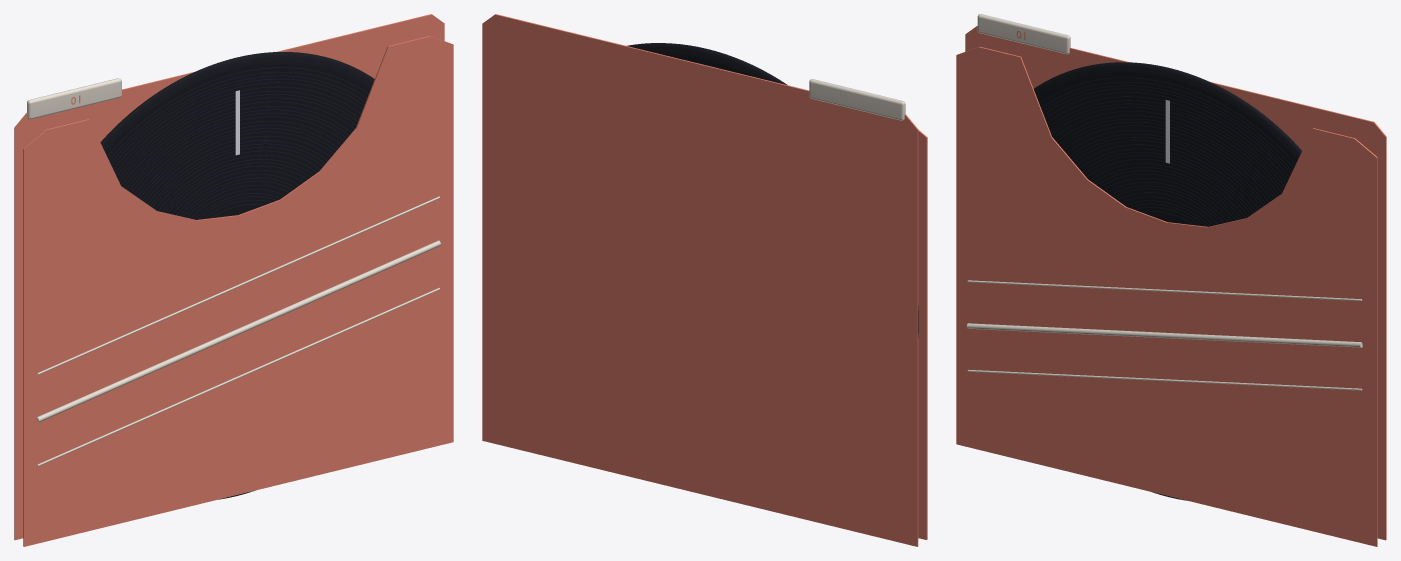
Rendered from BrowseSleeve.fbx.
3 renders of one model, left to right at view 1: azimuth 30°, elevation 25°; view 2: azimuth 150°, elevation 25°; view 3: azimuth 330°, elevation 25°, orthographic. The views are drawn at different scales.
Parts seen in each view (by area): view 1: BrowseSleeve; view 2: BrowseSleeve; view 3: BrowseSleeve.
Part boxes in pixels (x1,y1,x2,y2): BrowseSleeve: (14,14,453,546); BrowseSleeve: (482,14,927,546); BrowseSleeve: (956,14,1386,546).
Bounding box in the file's own units: 0.679 × 0.0361 × 0.6645.
